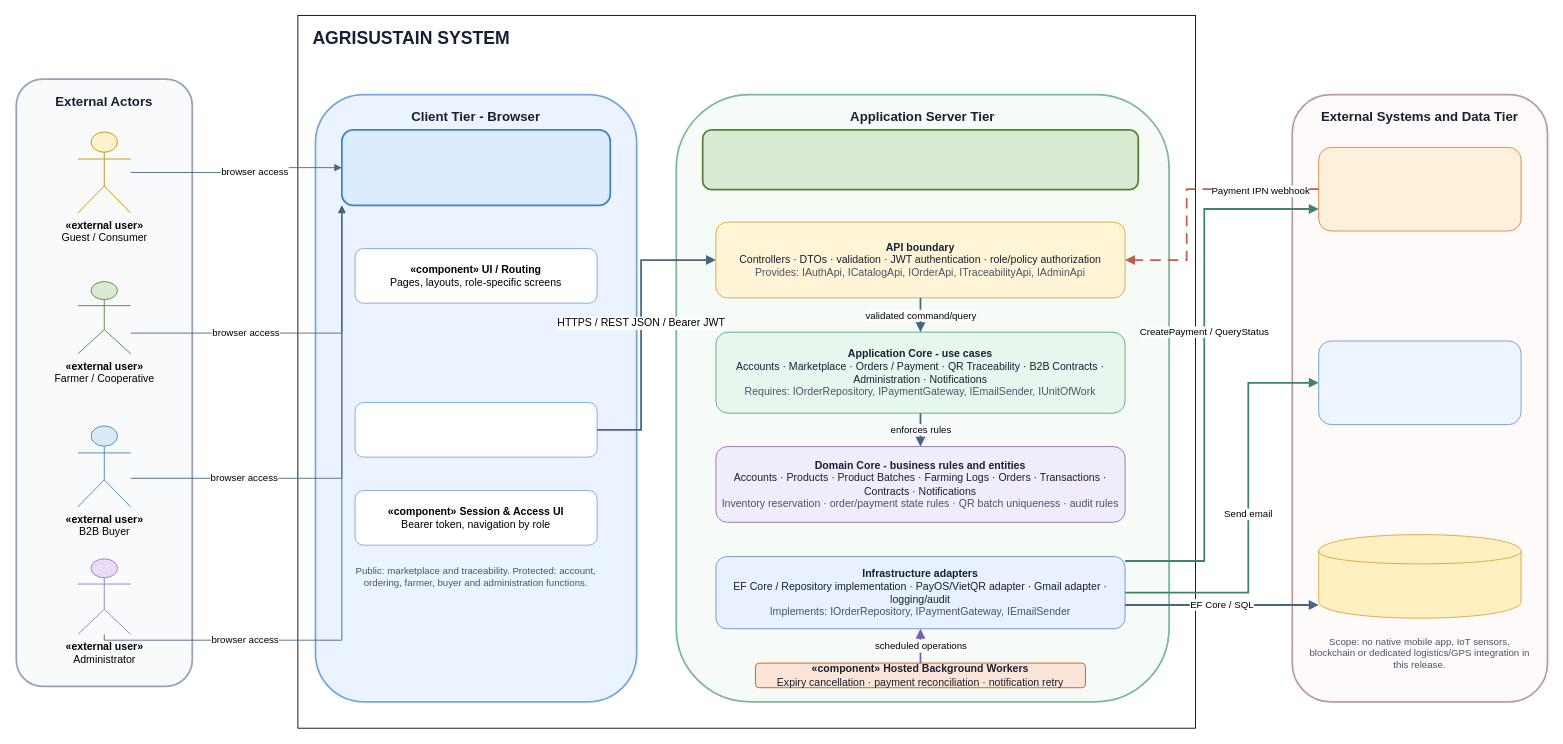
This 1563x744 diagram has some shape labels left out. Each missing label, with the centre of its shape:
«client subsystem» React 19 Single Page Application Tailwind CSS: the point at 476,167
«component» API Client HTTPS, REST JSON, response handling: the point at 475,429
«database» Microsoft SQL Server Primary relational data store: the point at 1419,576
«external system» Google Gmail API OTP and operational email: the point at 1419,382
«external system» PayOS / VietQR QR payment and transaction status: the point at 1419,189
«service subsystem» ASP.NET Core 8 Web API: the point at 920,159
